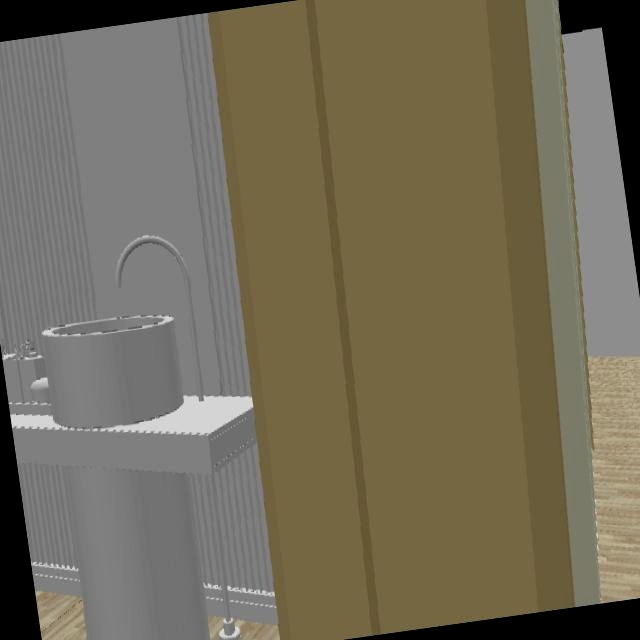washbasin: (40, 312, 184, 433)
